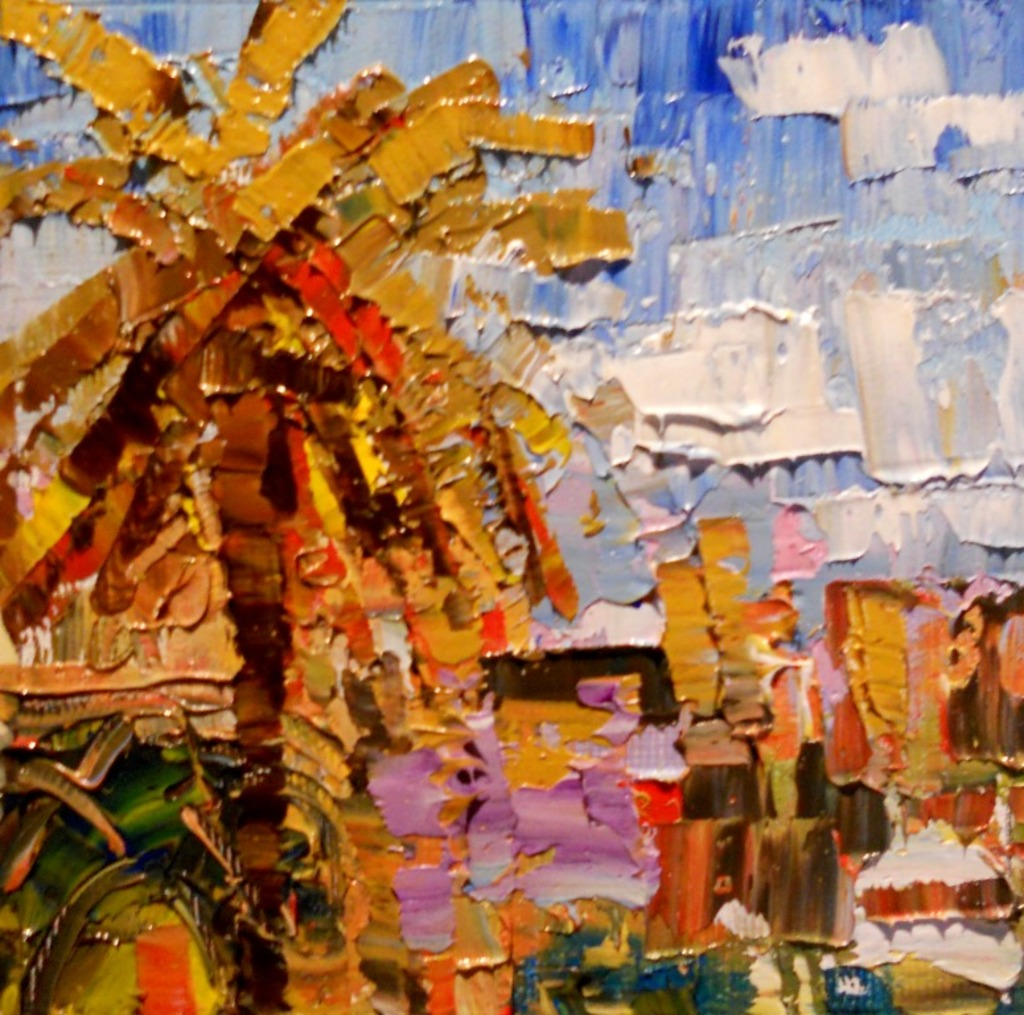Tree: (0, 0, 632, 1013)
